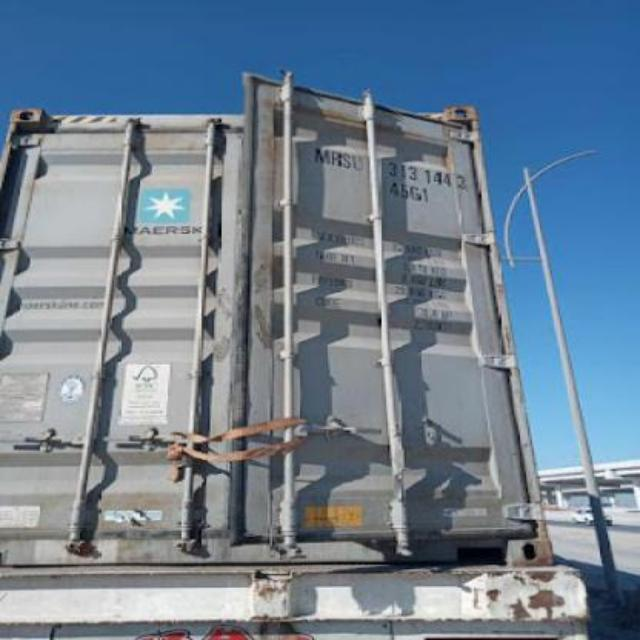1: (424, 162, 434, 182), (398, 158, 406, 178)
3: (411, 162, 424, 182), (458, 172, 468, 192), (386, 161, 396, 177)
4: (430, 162, 446, 192), (444, 166, 456, 194)
M: (316, 146, 328, 168)
R: (330, 146, 342, 170)
S: (340, 151, 350, 169)
U: (352, 152, 368, 172)
